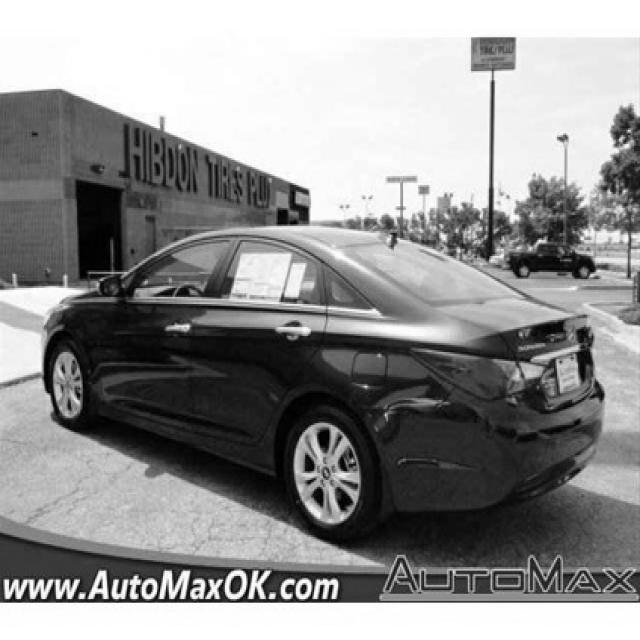car: (39, 222, 606, 542)
